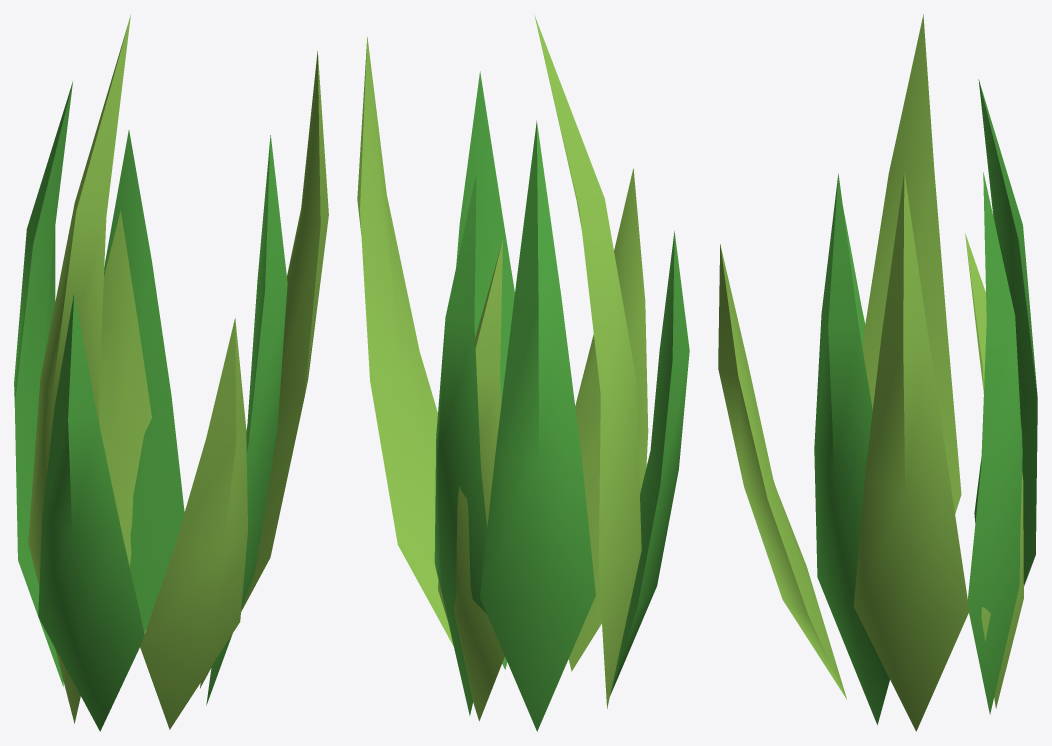
Rendered from grass_tuft.glb.
The picture shows the model from 3 angles, left to right: view 1: azimuth 30°, elevation 25°; view 2: azimuth 150°, elevation 25°; view 3: azimuth 270°, elevation 25°; orthographic projection.
Parts seen in each view (by area): view 1: grass_tuft; view 2: grass_tuft; view 3: grass_tuft.
Part boxes in pixels (box(x1,y1,x2,y2)): grass_tuft: box(14, 15, 328, 731); grass_tuft: box(357, 15, 689, 731); grass_tuft: box(718, 14, 1037, 731).
Bounding box in the file's own units: 0.1803 × 0.3988 × 0.1684.
